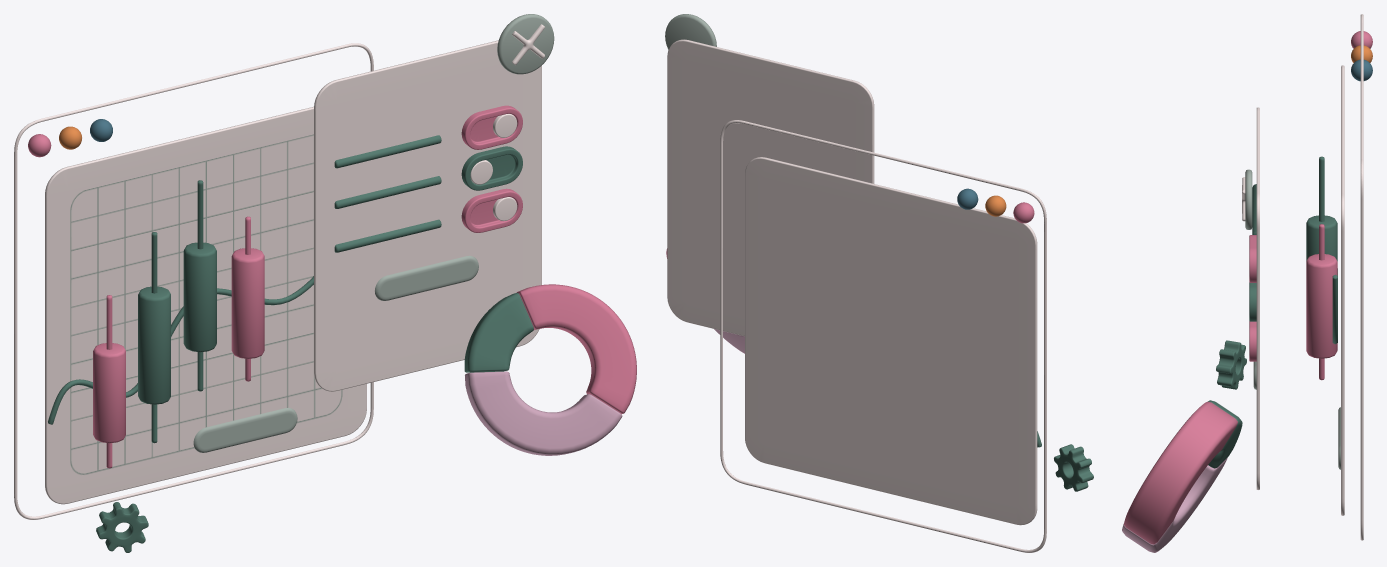
Rendered from calculator.glb.
The picture shows the model from 3 angles, left to right: view 1: azimuth 30°, elevation 25°; view 2: azimuth 150°, elevation 25°; view 3: azimuth 270°, elevation 25°; orthographic projection. The views are drawn at different scales.
Parts seen in each view (by area): view 1: icons8_candlesticks_chart; view 2: icons8_candlesticks_chart; view 3: icons8_candlesticks_chart.
Boxes of the visible parts, <box> form: icons8_candlesticks_chart: <box>14,14,636,552</box>; icons8_candlesticks_chart: <box>665,14,1093,552</box>; icons8_candlesticks_chart: <box>1122,14,1372,552</box>.
Size of the model in its own units: 1.94 by 1.6 by 0.8662.
Materials: 1 (1 with a texture image).
